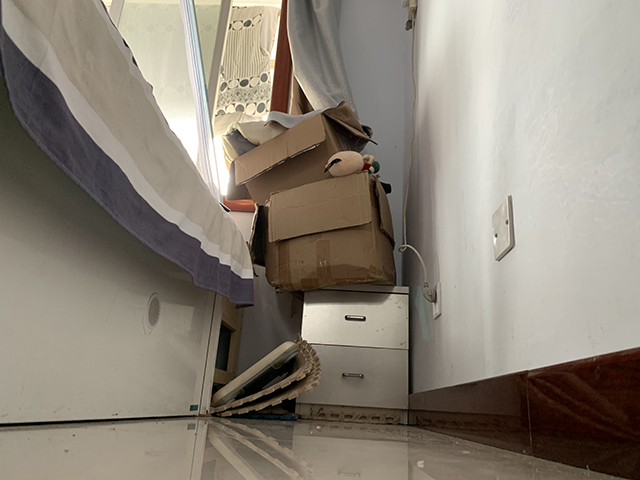bed: (1, 1, 257, 424)
cabinet: (293, 281, 412, 427)
